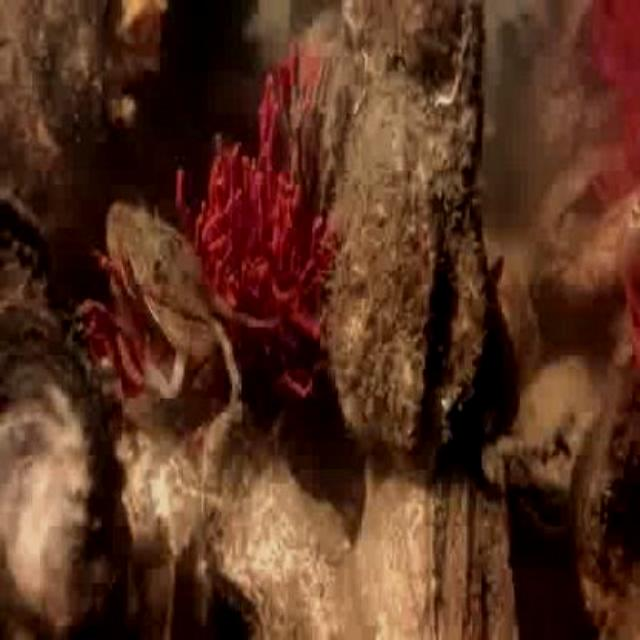Oyster-Closed: (0, 251, 113, 638)
Oyster-Open: (338, 1, 483, 472), (0, 176, 52, 267)
